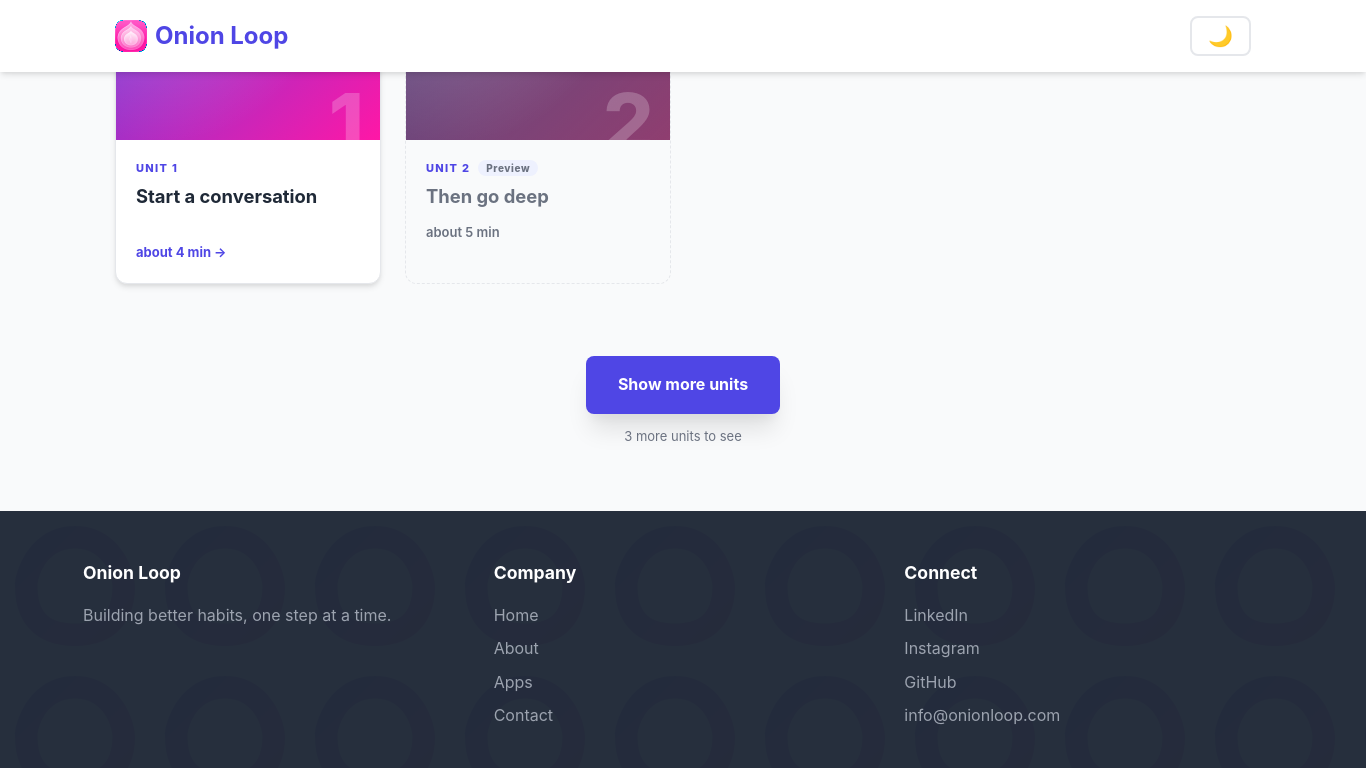
Test case: showing more appends the next page under the right headings
This screenshot has width=1366, height=768.
(page scrolled)
Click the button "Show more units" at (683, 385), box [586,356,780,414]
(page scrolled)
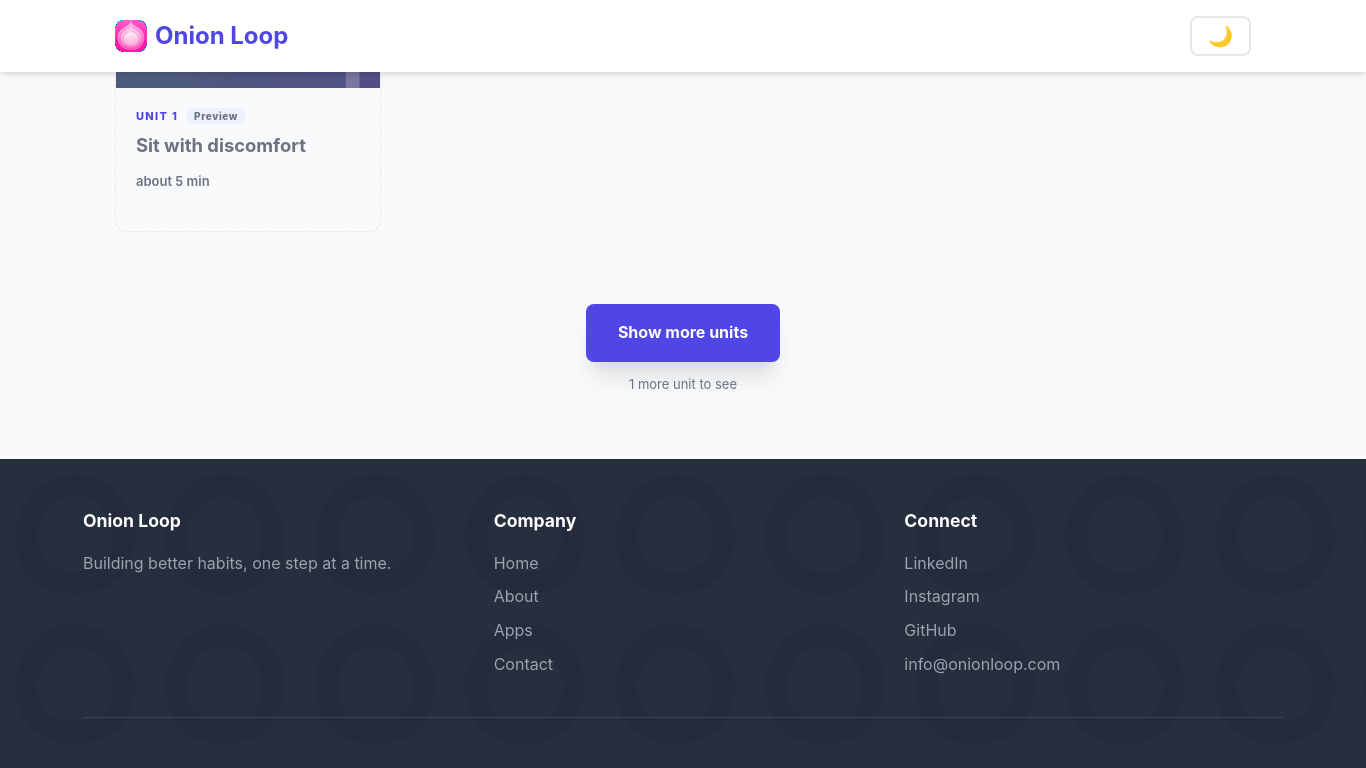
Now the text "Sit with discomfort" is shown, box [136,134,306,156]
Now the text "1 more unit to see" is shown, box [629,374,737,395]
